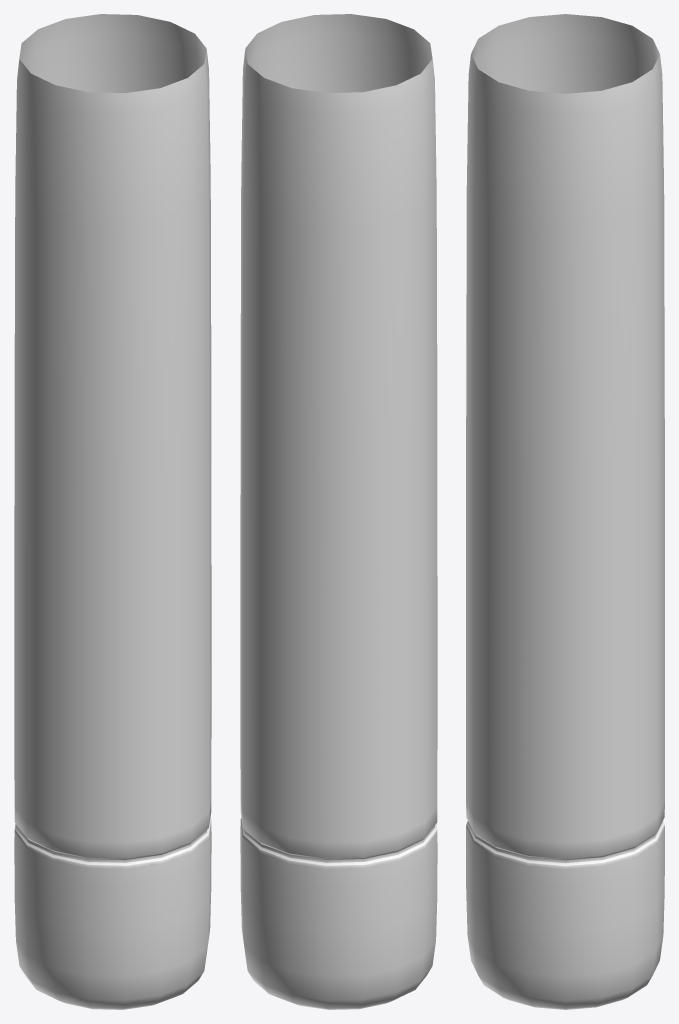
The model's file is NEWJEANS_01.glb.
The picture shows the model from 3 angles, left to right: view 1: azimuth 30°, elevation 25°; view 2: azimuth 150°, elevation 25°; view 3: azimuth 270°, elevation 25°; orthographic projection.
Size of the model in its own units: 0.0568 by 0.2925 by 0.0568.
Materials: 1 (1 with a texture image).
